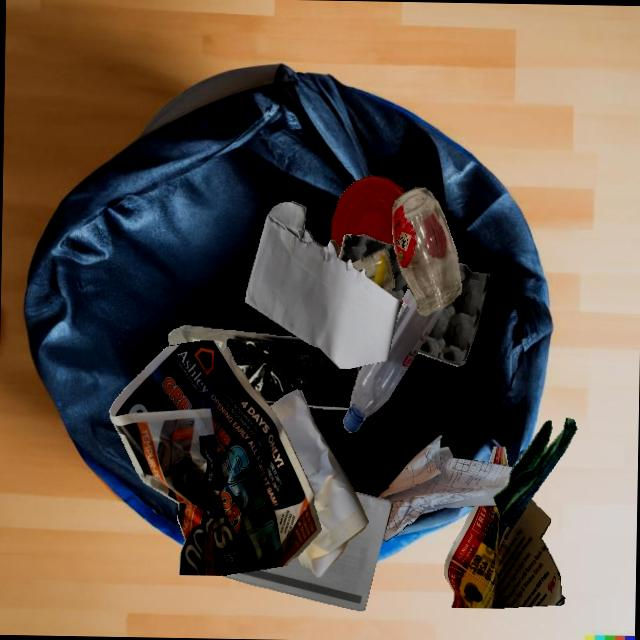biowaste: (493, 418, 576, 527)
cardboard: (417, 262, 489, 366), (338, 233, 408, 299)
glass: (391, 186, 461, 315), (352, 249, 394, 292)
paper: (109, 340, 321, 575), (245, 201, 402, 369), (221, 491, 393, 611), (269, 389, 368, 576), (376, 434, 512, 541), (444, 505, 564, 608)
plastic: (168, 325, 358, 409), (342, 288, 442, 432), (330, 175, 404, 258)
